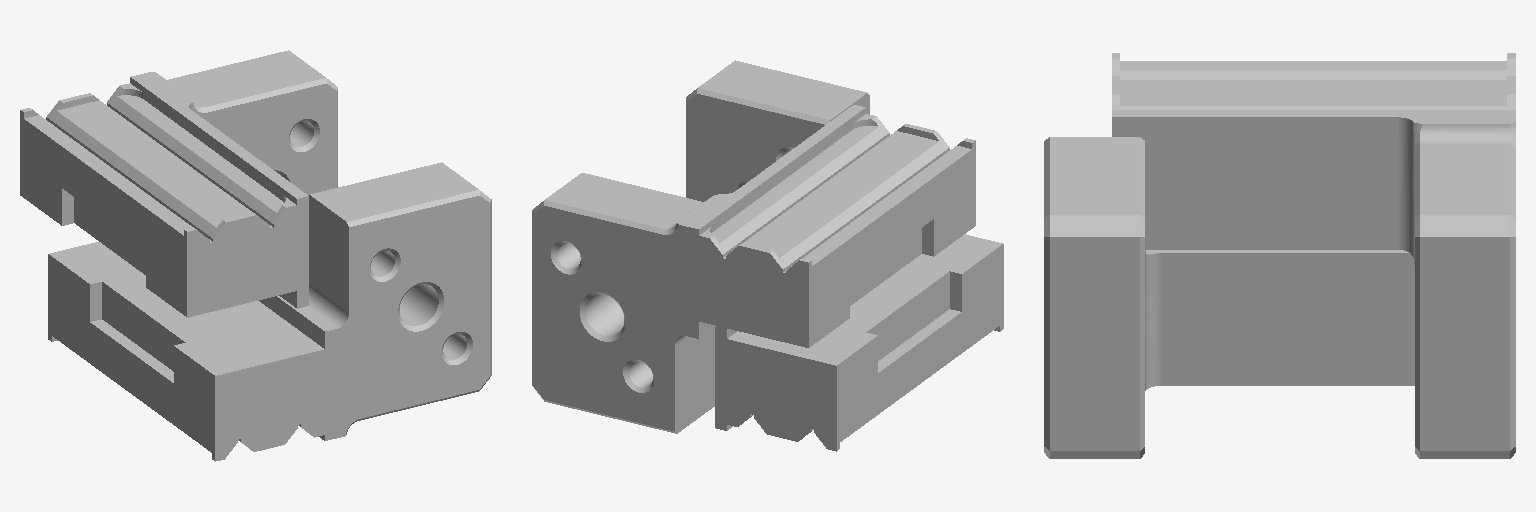
URDF robot description (z_efg_f_gripper):
<?xml version="1.0"?>
<robot name="z_efg_f_gripper">
  <!-- 根连杆：带唯一前缀z_efg_f_，无命名冲突 -->
  <link name="z_efg_f_base_link">
    <visual>
      <origin xyz="0 0 0" rpy="0 0 0"/>
      <geometry>
        <mesh filename="package://z_efg_f_gripper/dae/base_link.dae" scale="1 1 1"/>
      </geometry>
    </visual>
    <collision>
      <origin xyz="0 0 0" rpy="0 0 0"/>
      <geometry>
        <mesh filename="package://z_efg_f_gripper/dae/base_link.dae" scale="1 1 1"/>
      </geometry>
    </collision>
    <inertial>  <!-- 修正：去掉多余的< -->
      <mass value="1.2"/>
      <origin xyz="0 0 0.05" rpy="0 0 0"/>
      <inertia ixx="0.005" ixy="0.0" ixz="0.0" iyy="0.005" iyz="0.0" izz="0.008"/>  <!-- 修正：去掉多余的< -->
    </inertial> <!-- 修正：闭合标签正确 -->
  </link>

  <!-- 左手指连杆：带前缀 -->
  <link name="z_efg_f_finger_left_link">
    <visual>
      <origin xyz="-0.04225 0 0" rpy="0 0 0"/>
      <geometry>
        <mesh filename="package://z_efg_f_gripper/dae/link_finger_left.dae" scale="1 1 1"/>
      </geometry>
    </visual>
    <collision>
      <origin xyz="-0.04225 0 0" rpy="0 0 0"/>
      <geometry>
        <mesh filename="package://z_efg_f_gripper/dae/link_finger_left.dae" scale="1 1 1"/>
      </geometry>
    </collision>
    <inertial>  <!-- 修正：去掉多余的< -->
      <mass value="0.3"/>
      <origin xyz="-0.04225 0 0" rpy="0 0 0"/>
      <inertia ixx="0.001" ixy="0.0" ixz="0.0" iyy="0.001" iyz="0.0" izz="0.0015"/>  <!-- 修正：去掉多余的< -->
    </inertial> <!-- 修正：闭合标签正确 -->
  </link>

  <!-- 右手指连杆：带前缀 -->
  <link name="z_efg_f_finger_right_link">
    <visual>
      <origin xyz="-0.04225 0 0" rpy="0 0 0"/>
      <geometry>
        <mesh filename="package://z_efg_f_gripper/dae/link_finger_right.dae" scale="1 1 1"/>
      </geometry>
    </visual>
    <collision>
      <origin xyz="-0.04225 0 0" rpy="0 0 0"/>
      <geometry>
        <mesh filename="package://z_efg_f_gripper/dae/link_finger_right.dae" scale="1 1 1"/>
      </geometry>
    </collision>
    <inertial>  <!-- 修正：去掉多余的< -->
      <mass value="0.3"/>
      <origin xyz="-0.04225 0 0" rpy="0 0 0"/>
      <inertia ixx="0.001" ixy="0.0" ixz="0.0" iyy="0.001" iyz="0.0" izz="0.0015"/>  <!-- 修正：去掉多余的< -->
    </inertial> <!-- 修正：闭合标签正确 -->
  </link>

  <!-- 左手指关节：带前缀 -->
  <joint name="z_efg_f_finger_left_joint" type="prismatic">
    <parent link="z_efg_f_base_link"/>
    <child link="z_efg_f_finger_left_link"/>
    <origin xyz="-0.04225 0 0" rpy="0 0 0"/>
    <axis xyz="0 1 0"/>
    <limit lower="-0.01" upper="0.01" effort="5" velocity="0.1"/>
  </joint>

  <!-- 右手指关节：带前缀 -->
  <joint name="z_efg_f_finger_right_joint" type="prismatic">
    <parent link="z_efg_f_base_link"/>
    <child link="z_efg_f_finger_right_link"/>
    <origin xyz="-0.04225 0 0" rpy="0 0 0"/>
    <axis xyz="0 -1 0"/>
    <limit lower="-0.01" upper="0.01" effort="5" velocity="0.1"/>
  </joint>
</robot>

--- What the picture shows (computed from the rendered views, not written in the file) ---
Views: 3 orthographic renders of the robot side by side, from view 1: azimuth 30°, elevation 25°; view 2: azimuth 150°, elevation 25°; view 3: azimuth 270°, elevation 25°.
Robot: z_efg_f_gripper — 3 links, 2 joints (2 prismatic); root link z_efg_f_base_link; default pose: all joints at 0.
Links seen in each view (by area): view 1: z_efg_f_finger_right_link, z_efg_f_finger_left_link; view 2: z_efg_f_finger_left_link, z_efg_f_finger_right_link; view 3: z_efg_f_finger_left_link, z_efg_f_finger_right_link.
Boxes of the visible links, bbox=[...] form: z_efg_f_finger_right_link: bbox=[48, 162, 491, 461]; z_efg_f_finger_left_link: bbox=[20, 50, 337, 317]; z_efg_f_finger_left_link: bbox=[532, 105, 975, 433]; z_efg_f_finger_right_link: bbox=[686, 60, 1003, 451]; z_efg_f_finger_left_link: bbox=[1112, 53, 1515, 458]; z_efg_f_finger_right_link: bbox=[1044, 137, 1414, 458].
Size in the robot's own frame: 0.0231 by 0.028 by 0.0176 metres.
2 mesh visuals loaded from 3 distinct referenced files (2 Collada DAE); not drawn: 1 (reference not matched to a file when rendering).
